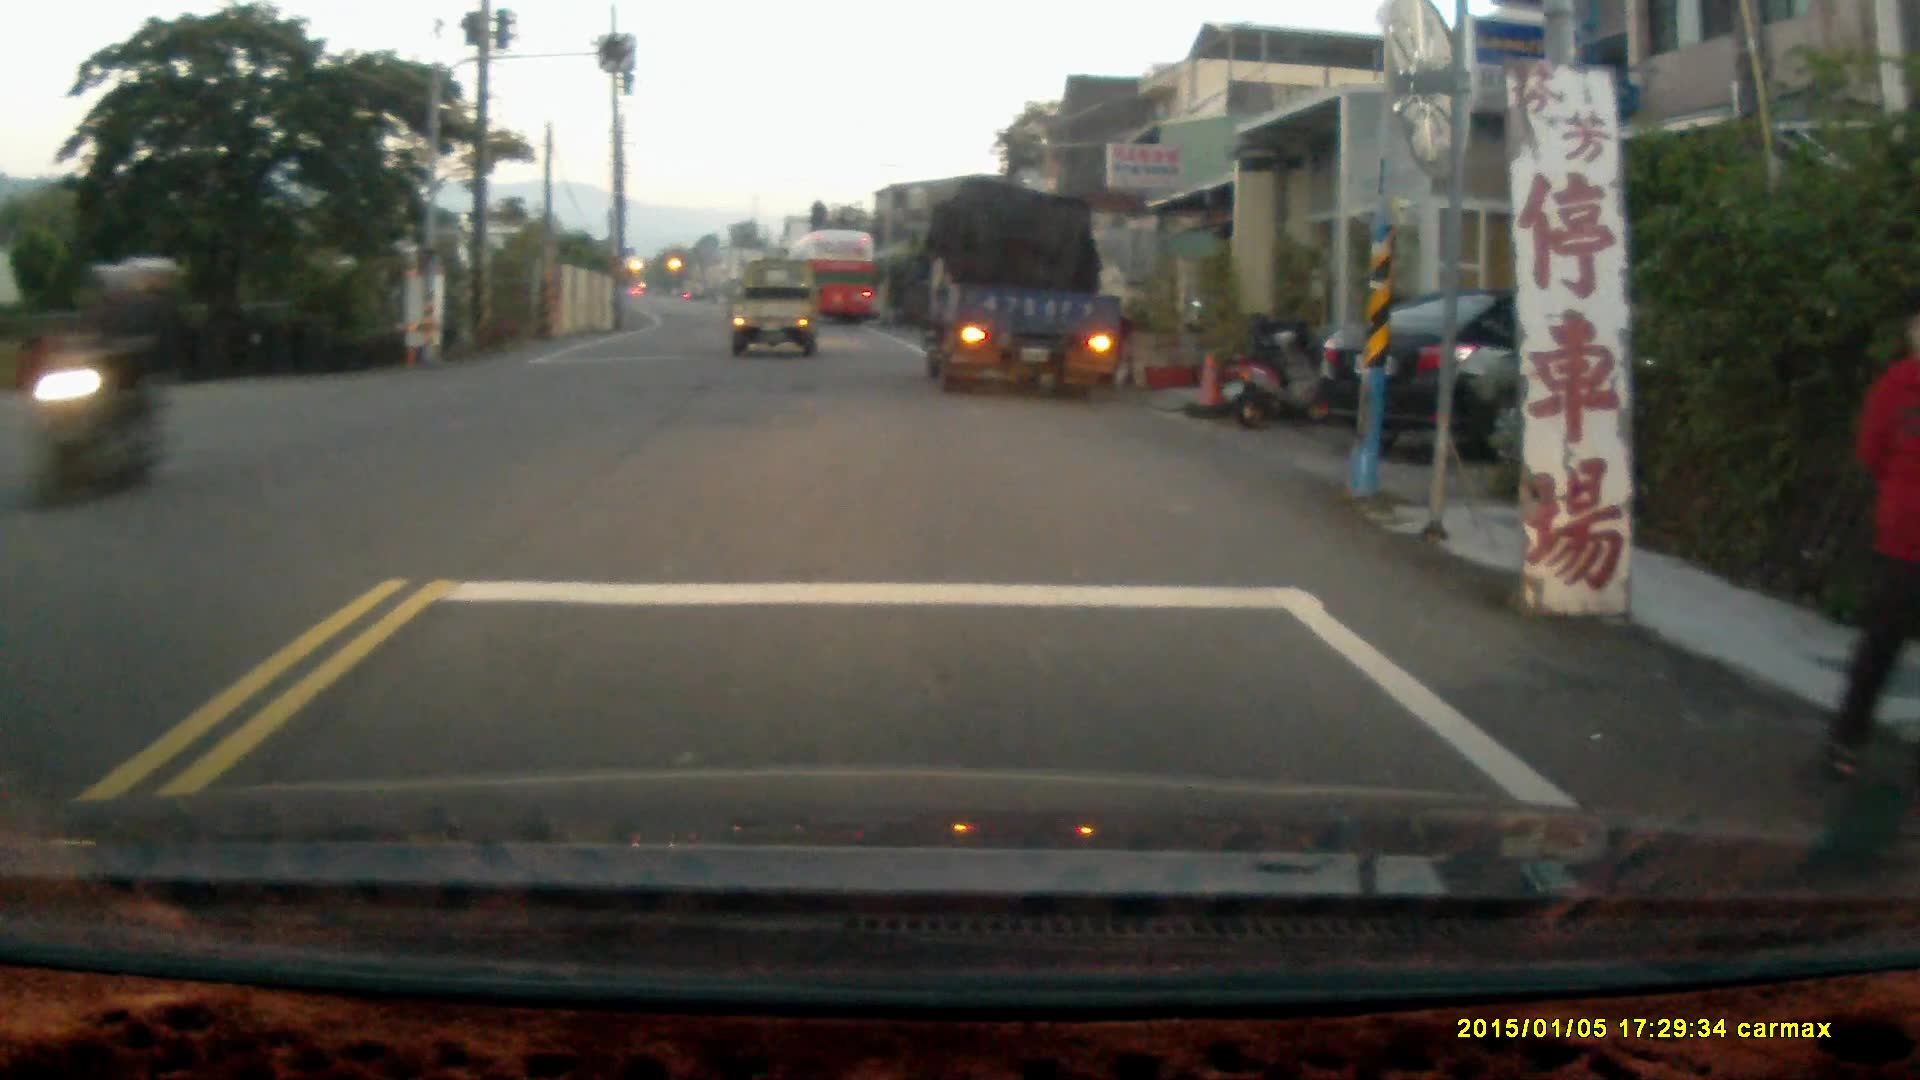pedestrian: (1816, 308, 1920, 789)
rider: (19, 253, 188, 504)
vehicle: (1312, 287, 1712, 470), (926, 183, 1128, 388), (787, 229, 883, 332), (729, 259, 821, 354)
